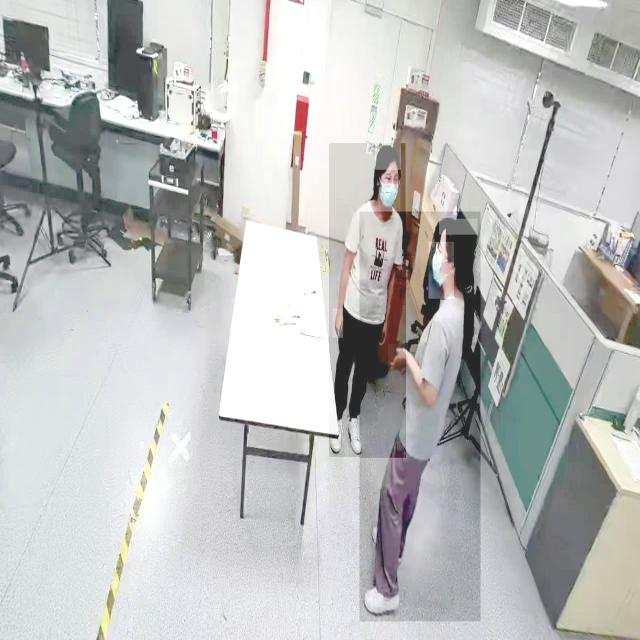face_mask: (428, 242, 454, 298), (378, 173, 401, 218)
hand_noglove: (388, 344, 408, 372), (332, 308, 343, 338), (377, 320, 387, 346)
head_nohelmet: (375, 143, 401, 171), (439, 218, 478, 236)
person: (359, 212, 481, 622), (329, 143, 406, 458)
shoes: (363, 579, 405, 617), (345, 404, 365, 456)
